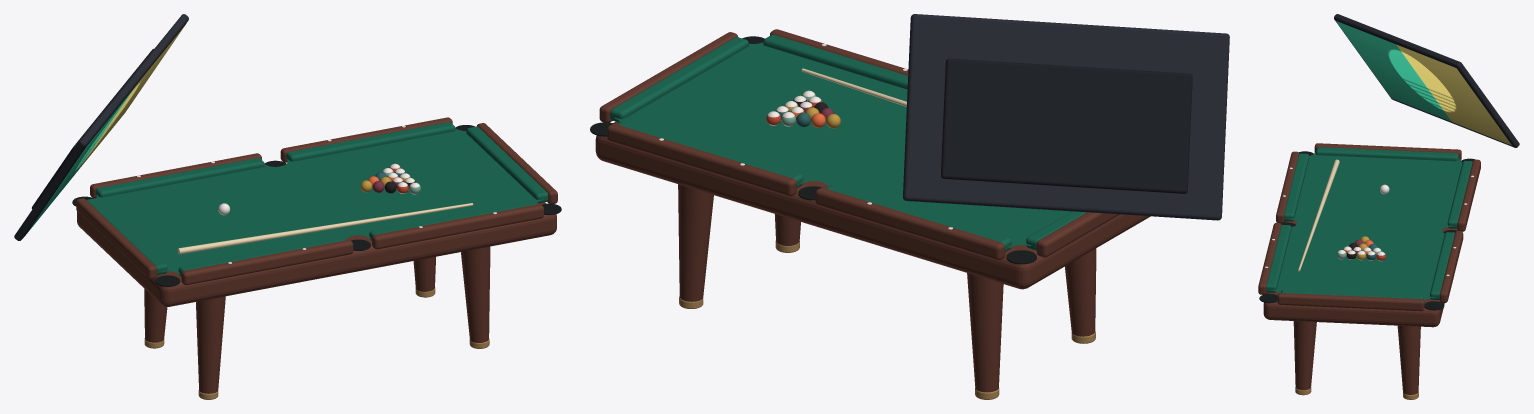
The model's file is billiards.glb.
3 views of the same model, side by side, from view 1: azimuth 30°, elevation 25°; view 2: azimuth 150°, elevation 25°; view 3: azimuth 270°, elevation 25° (orthographic). The views are drawn at different scales.
Visible parts, largest first — view 1: Pocket-cut baize, Table apron, Rail cap, Rail cap.001, TV / graphite frame.005, Tapered table leg, Tapered table leg.002, Long cushion.002, Long cushion.003, End rail, Maple cue, End cushion.001 (+10 smaller); view 2: TV / graphite frame.005, TV / rear enclosure.005, Pocket-cut baize, Table apron, Rail cap.002, Rail cap.003, Tapered table leg.001, Tapered table leg.003, End cushion.001, Tapered table leg, Long cushion.001, End rail (+6 smaller); view 3: Pocket-cut baize, TV / active picture.010, TV / active picture.011, Table apron, End rail.001, TV / graphite frame.005, Tapered table leg.003, Tapered table leg.002, End cushion, Long cushion.001, Long cushion, Rail cap.003 (+9 smaller).
Part boxes in pixels (<box>): Pocket-cut baize: <box>96,128,543,274</box>; Table apron: <box>77,202,556,306</box>; Rail cap: <box>181,240,353,285</box>; Rail cap.001: <box>372,204,543,249</box>; TV / graphite frame.005: <box>14,14,188,240</box>; Tapered table leg: <box>196,296,225,393</box>; Tapered table leg.002: <box>461,246,490,342</box>; Long cushion.002: <box>95,158,264,197</box>; Long cushion.003: <box>286,122,455,161</box>; End rail: <box>76,198,157,279</box>; Maple cue: <box>177,203,473,254</box>; End cushion.001: <box>466,126,548,203</box>; TV / graphite frame.005: <box>903,14,1229,220</box>; TV / rear enclosure.005: <box>941,58,1192,193</box>; Pocket-cut baize: <box>614,42,1071,247</box>; Table apron: <box>595,121,1150,289</box>; Rail cap.002: <box>815,187,1005,260</box>; Rail cap.003: <box>607,123,796,196</box>; Tapered table leg.001: <box>967,273,1003,392</box>; Tapered table leg.003: <box>678,184,713,301</box>; End cushion.001: <box>610,37,748,122</box>; Tapered table leg: <box>1065,248,1096,336</box>; Long cushion.001: <box>763,34,907,89</box>; End rail: <box>1036,212,1119,257</box>; Pocket-cut baize: <box>1271,152,1462,300</box>; TV / active picture.010: <box>1336,21,1451,121</box>; TV / active picture.011: <box>1396,44,1511,145</box>; Table apron: <box>1263,220,1457,327</box>; End rail.001: <box>1277,293,1424,311</box>; TV / graphite frame.005: <box>1334,14,1519,147</box>; Tapered table leg.003: <box>1397,325,1420,394</box>; Tapered table leg.002: <box>1293,321,1316,390</box>; End cushion: <box>1315,147,1458,161</box>; Long cushion.001: <box>1266,225,1291,292</box>; Long cushion: <box>1284,153,1309,221</box>; Rail cap.003: <box>1439,231,1463,302</box>.
Bounding box in the file's own units: 10.82 × 6.55 × 6.18.
Materials: 18 (2 with a texture image).
